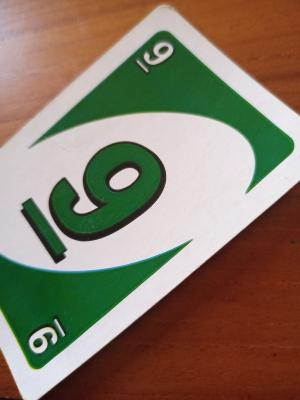green: (44, 106, 244, 257)
num_9: (133, 32, 178, 78)
